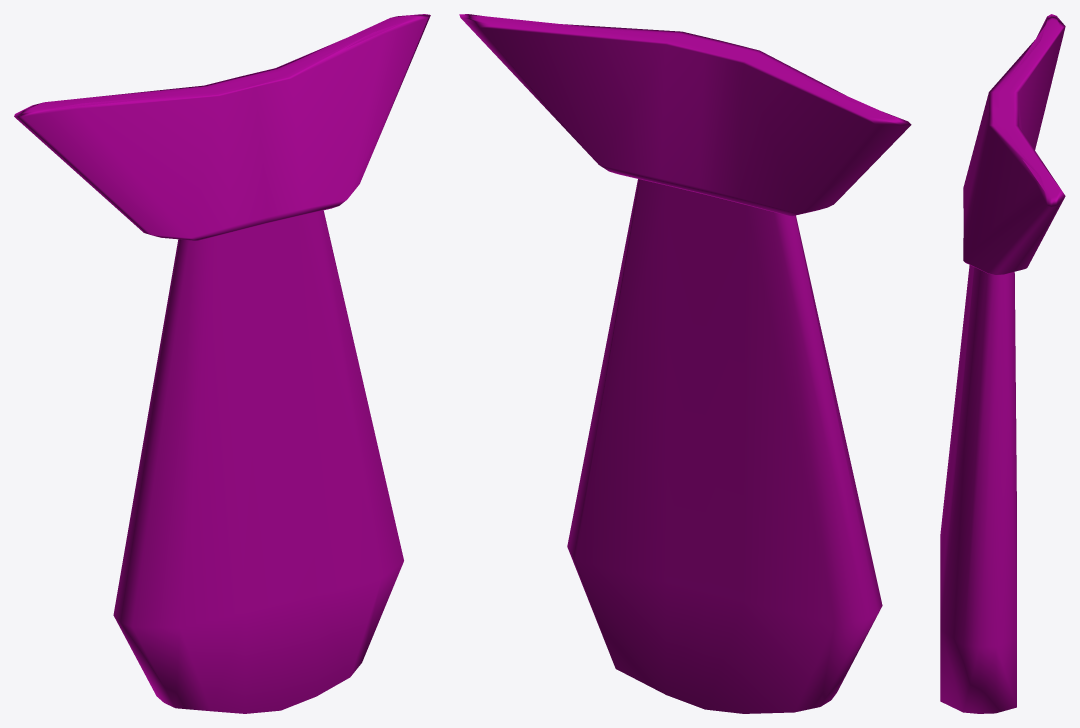
Rendered from tie.fbx.
The picture shows the model from 3 angles, left to right: view 1: azimuth 30°, elevation 25°; view 2: azimuth 150°, elevation 25°; view 3: azimuth 270°, elevation 25°; orthographic projection. The views are drawn at different scales.
Visible parts, largest first — view 1: pPlane1; view 2: pPlane1; view 3: pPlane1.
Part boxes in pixels (<box>): pPlane1: <box>14,14,430,713</box>; pPlane1: <box>459,14,911,713</box>; pPlane1: <box>940,14,1065,713</box>.
Bounding box in the file's own units: 218 × 303 × 59.49.
